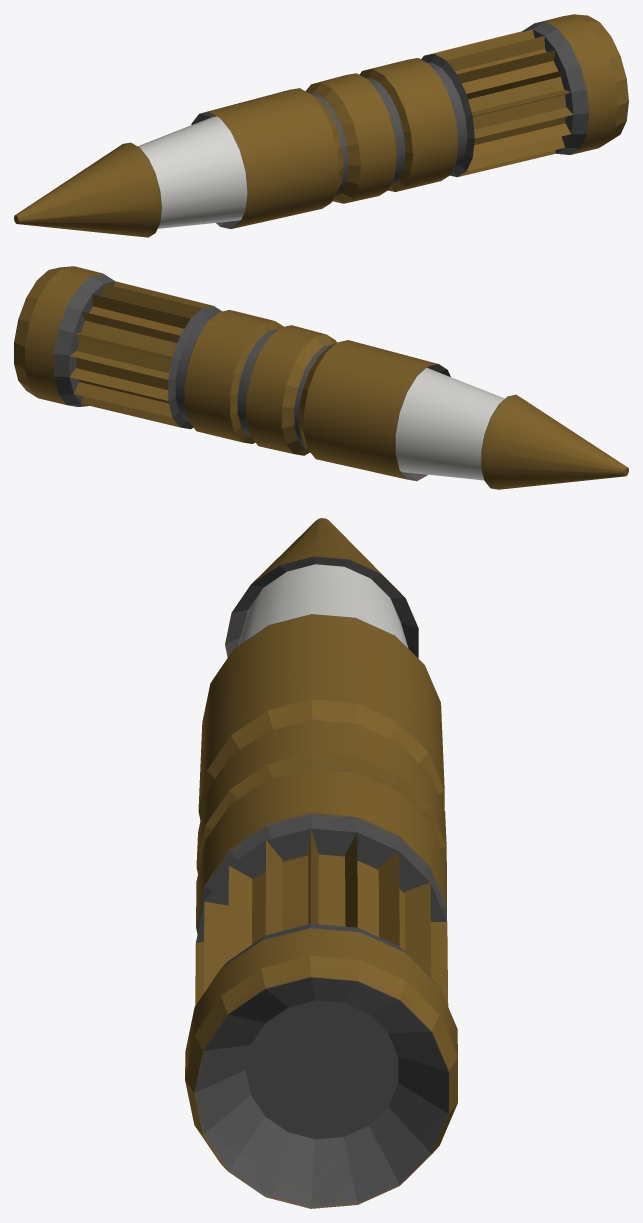
File: bala.glb
The picture shows the model from 3 angles, top to bottom: view 1: azimuth 30°, elevation 25°; view 2: azimuth 150°, elevation 25°; view 3: azimuth 270°, elevation 25°; orthographic projection. The views are drawn at different scales.
Visible parts, largest first — view 1: defaultMaterial; view 2: defaultMaterial; view 3: defaultMaterial.
Boxes of the visible parts, x1,y1,x2,y2 form: defaultMaterial: [14, 14, 628, 237]; defaultMaterial: [14, 266, 628, 489]; defaultMaterial: [185, 518, 457, 1208].
Size of the model in its own units: 0.1286 by 0.0263 by 0.0262.
1 material, 1 textured.
